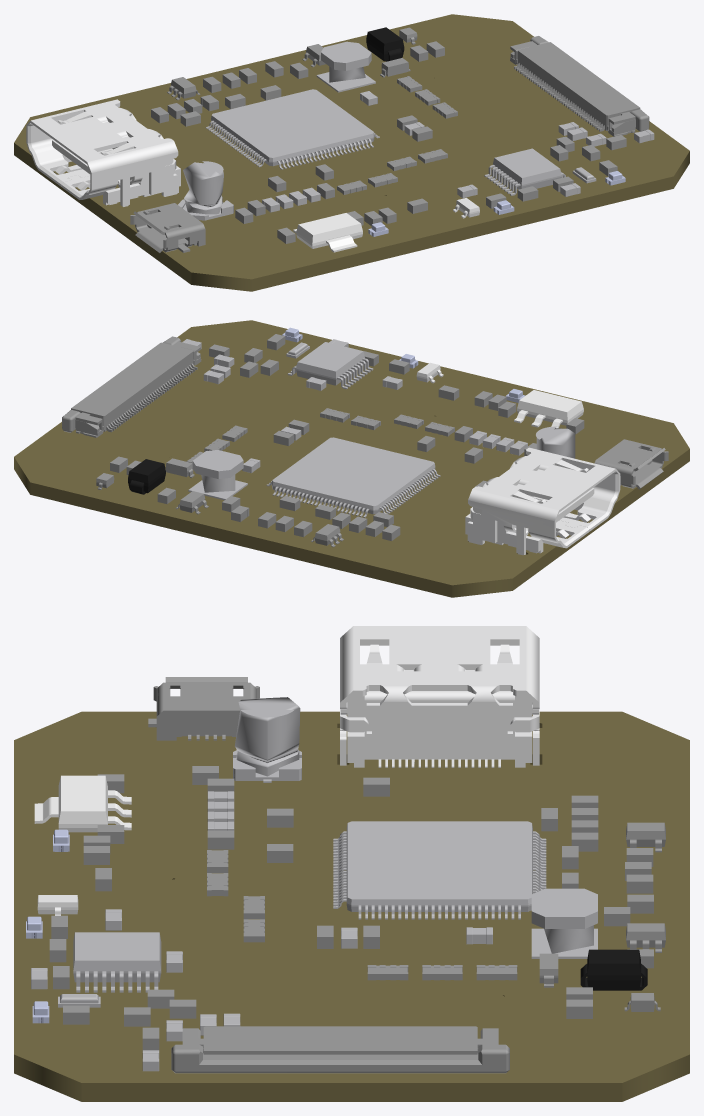
File: ada-2219.glb
3 renders of one model, top to bottom at view 1: azimuth 30°, elevation 25°; view 2: azimuth 150°, elevation 25°; view 3: azimuth 270°, elevation 25°, orthographic. The views are drawn at different scales.
Visible parts, largest first — view 1: 0.16666666666666666_0.16666666666666666_0.08333333333333333_, 0.3333333333333333_0.3333333333333333_0.3333333333333333_0, 0.5833333333333334_0.5833333333333334_0.5833333333333334_0.8, 0.9166666666666666_0.9166666666666666_0.9166666666666666_0.8, 1_1_1_0.85, 0_0_0_0, 0.5833333333333334_0.6666666666666666_0.8333333333333334_0; view 2: 0.16666666666666666_0.16666666666666666_0.08333333333333333_, 0.3333333333333333_0.3333333333333333_0.3333333333333333_0, 0.5833333333333334_0.5833333333333334_0.5833333333333334_0.8, 0.9166666666666666_0.9166666666666666_0.9166666666666666_0.8, 1_1_1_0.85, 0_0_0_0, 0.5833333333333334_0.6666666666666666_0.8333333333333334_0; view 3: 0.16666666666666666_0.16666666666666666_0.08333333333333333_, 0.3333333333333333_0.3333333333333333_0.3333333333333333_0, 0.5833333333333334_0.5833333333333334_0.5833333333333334_0.8, 0.9166666666666666_0.9166666666666666_0.9166666666666666_0.8, 1_1_1_0.85, 0_0_0_0, 0.5833333333333334_0.6666666666666666_0.8333333333333334_0.
Boxes of the visible parts, <box> form: 0.16666666666666666_0.16666666666666666_0.08333333333333333_: <box>14,14,689,291</box>; 0.3333333333333333_0.3333333333333333_0.3333333333333333_0: <box>130,27,649,252</box>; 0.5833333333333334_0.5833333333333334_0.5833333333333334_0.8: <box>178,41,654,220</box>; 0.9166666666666666_0.9166666666666666_0.9166666666666666_0.8: <box>26,99,479,218</box>; 1_1_1_0.85: <box>293,213,362,252</box>; 0_0_0_0: <box>366,27,404,61</box>; 0.5833333333333334_0.6666666666666666_0.8333333333333334_0: <box>368,171,625,236</box>; 0.16666666666666666_0.16666666666666666_0.08333333333333333_: <box>14,320,689,597</box>; 0.3333333333333333_0.3333333333333333_0.3333333333333333_0: <box>62,334,668,547</box>; 0.5833333333333334_0.5833333333333334_0.5833333333333334_0.8: <box>182,339,575,517</box>; 0.9166666666666666_0.9166666666666666_0.9166666666666666_0.8: <box>416,362,620,555</box>; 1_1_1_0.85: <box>514,390,583,428</box>; 0_0_0_0: <box>128,459,165,494</box>; 0.5833333333333334_0.6666666666666666_0.8333333333333334_0: <box>282,327,525,402</box>; 0.16666666666666666_0.16666666666666666_0.08333333333333333_: <box>14,711,689,1101</box>; 0.3333333333333333_0.3333333333333333_0.3333333333333333_0: <box>49,677,665,1073</box>; 0.5833333333333334_0.5833333333333334_0.5833333333333334_0.8: <box>31,697,597,1071</box>; 0.9166666666666666_0.9166666666666666_0.9166666666666666_0.8: <box>37,626,539,915</box>; 1_1_1_0.85: <box>34,775,131,832</box>; 0_0_0_0: <box>580,949,647,990</box>; 0.5833333333333334_0.6666666666666666_0.8333333333333334_0: <box>26,829,69,1023</box>.
Bounding box in the file's own units: 6.8 × 0.8382 × 5.08.
